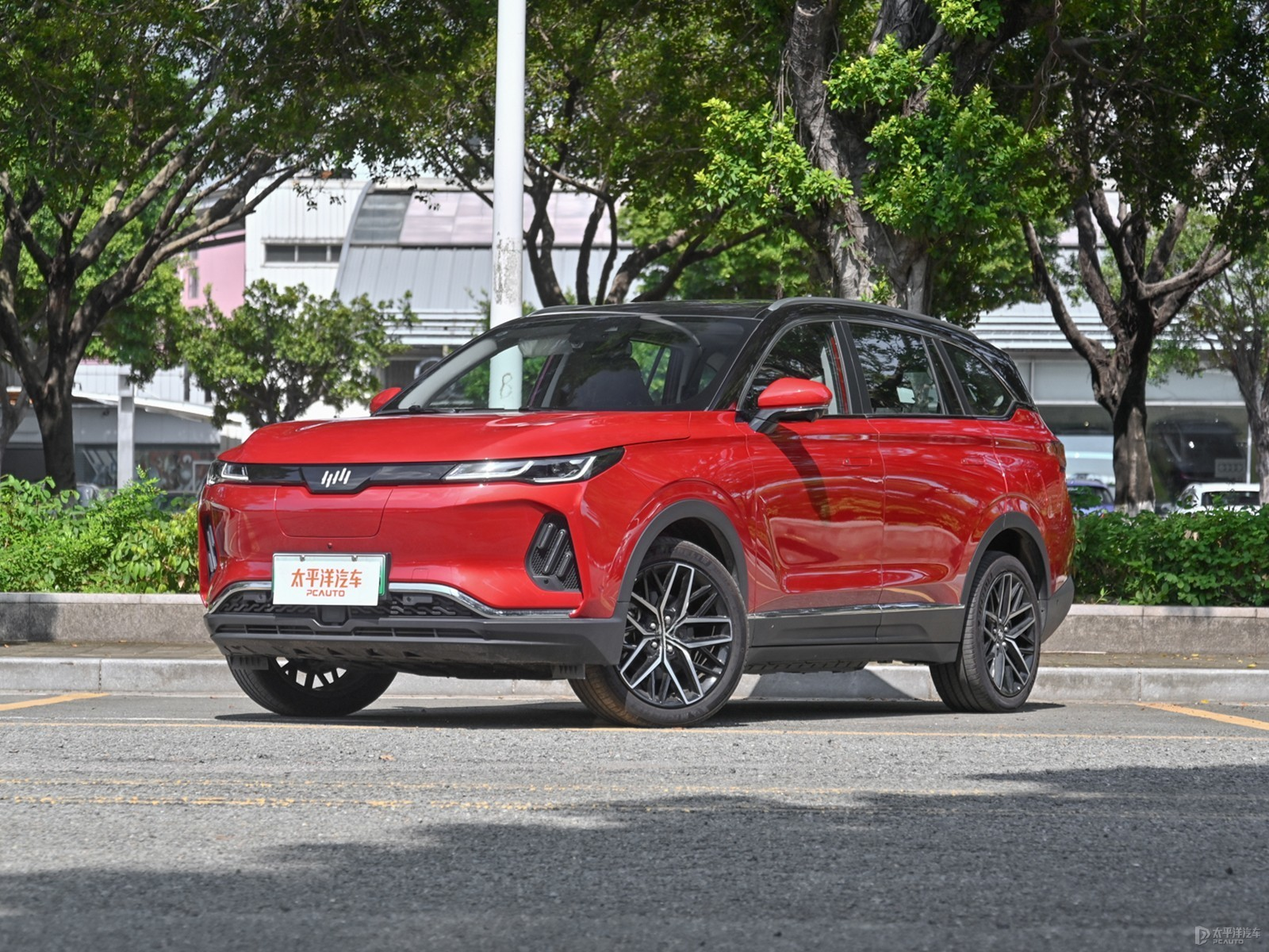WELTMEISTER: (322, 468, 351, 487)
